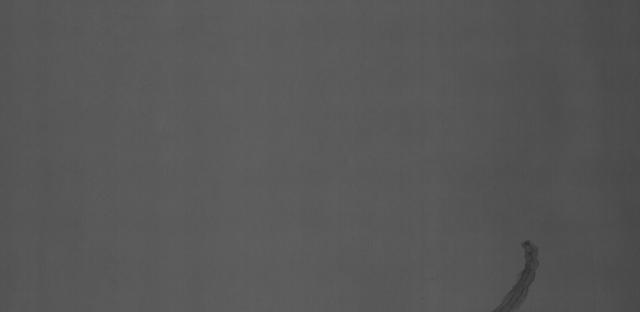water_spot: (491, 232, 547, 312)
